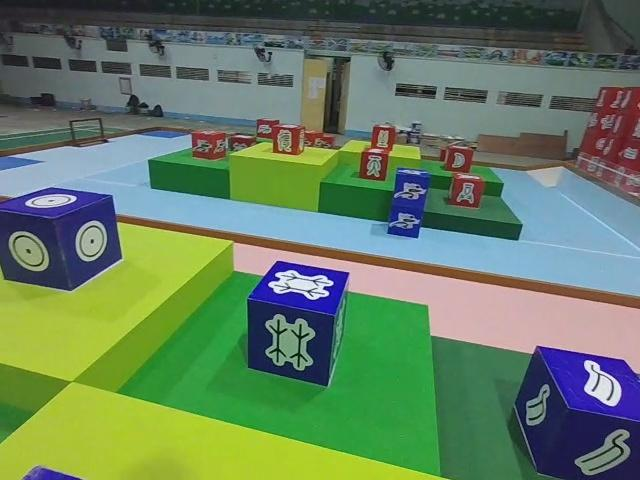R2 Real Blue: (513, 349, 639, 480), (245, 262, 349, 390), (1, 187, 124, 293)
